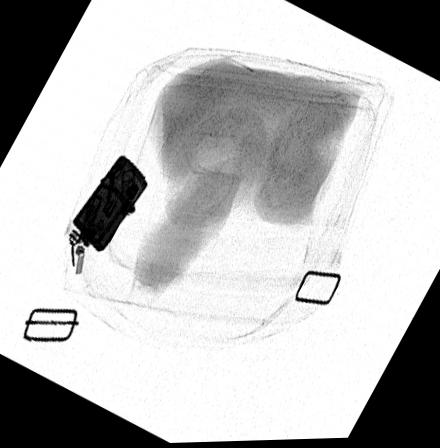Lighter: (72, 155, 147, 253)
